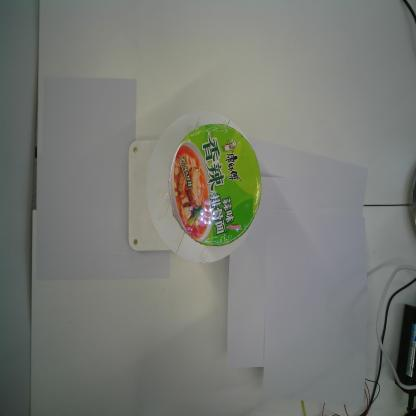Instant Noodles: (168, 122, 262, 248)
